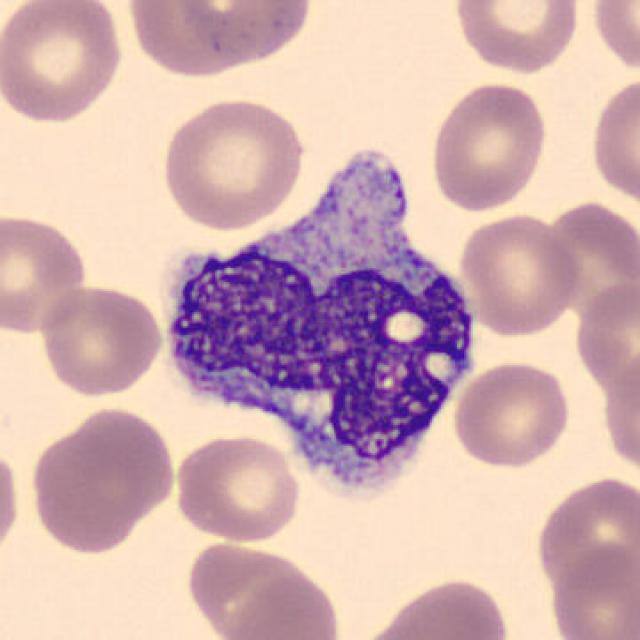Monocyte: (158, 141, 487, 511)
RBC: (26, 402, 178, 555), (156, 93, 310, 233), (427, 78, 551, 214), (455, 210, 585, 337), (0, 0, 128, 125), (34, 281, 165, 398), (171, 430, 302, 545), (531, 189, 640, 322), (450, 358, 574, 471), (532, 473, 638, 594), (0, 208, 91, 339), (121, 0, 258, 81), (448, 0, 585, 76), (170, 0, 316, 67), (544, 541, 638, 640), (372, 575, 514, 640), (217, 571, 347, 640), (571, 277, 638, 402), (587, 70, 638, 210), (601, 352, 640, 474), (588, 0, 638, 78), (0, 439, 23, 564), (354, 624, 453, 640)
